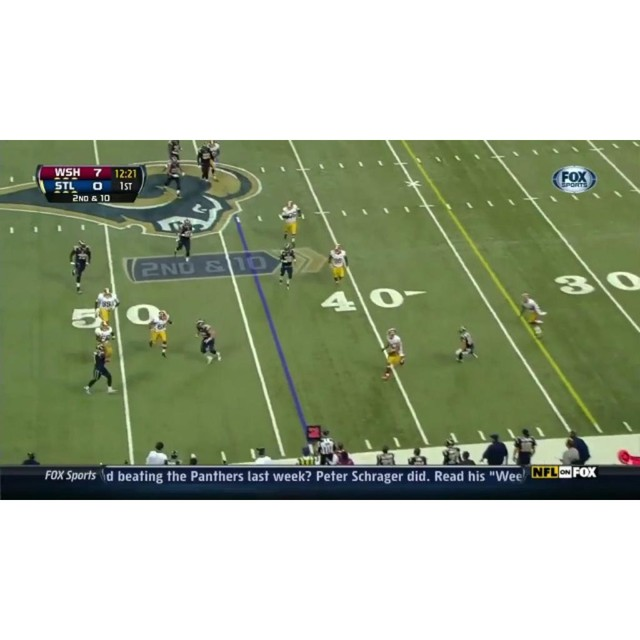american-football-player: (85, 342, 116, 395), (380, 328, 406, 380), (69, 239, 92, 293), (195, 318, 222, 364), (519, 292, 545, 338), (94, 287, 120, 333), (148, 310, 172, 359), (279, 200, 303, 245), (161, 155, 184, 198), (277, 241, 296, 289), (173, 218, 194, 260), (455, 325, 478, 362), (196, 142, 217, 182), (328, 244, 348, 285)
